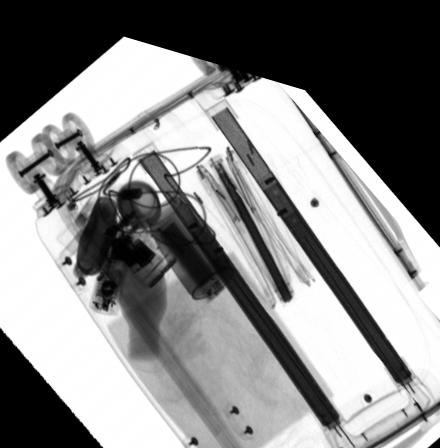Powerbank: (153, 207, 229, 291)
